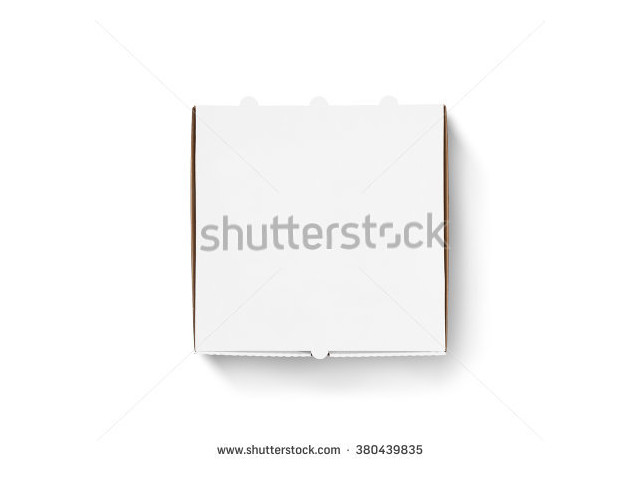cardboard: (189, 105, 448, 357)
